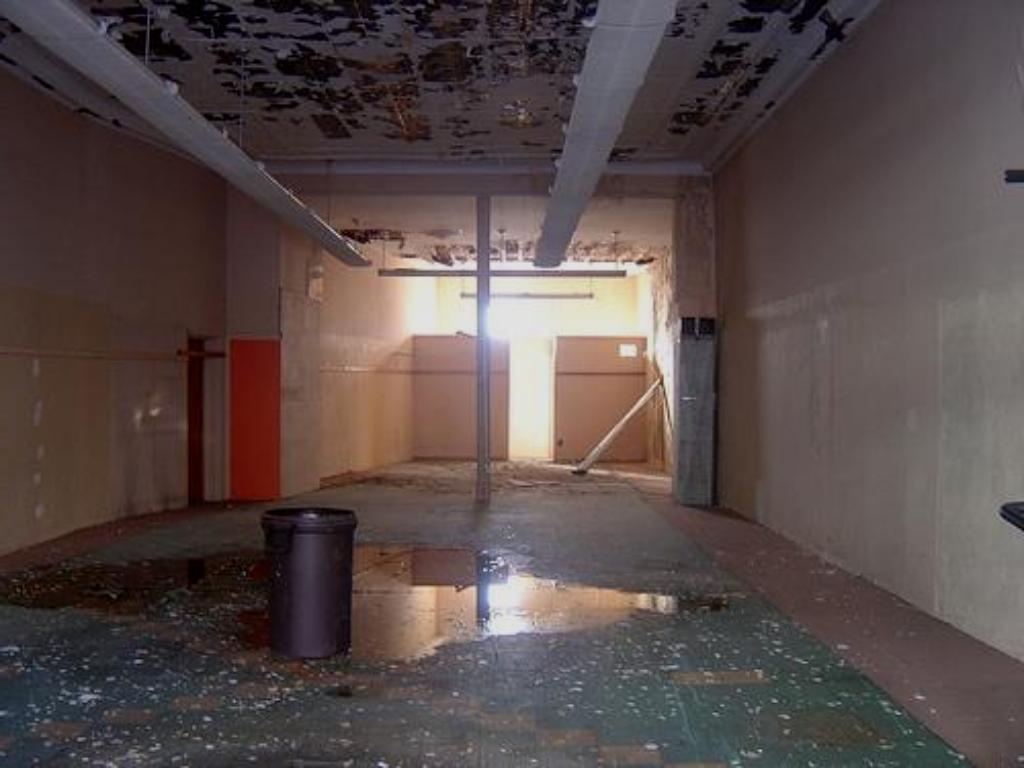dustbin: (245, 498, 365, 670)
